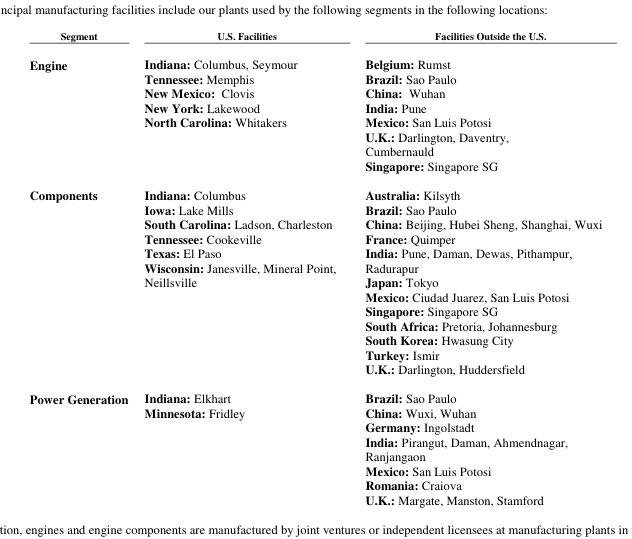table: (28, 28, 601, 508)
table column: (349, 28, 601, 508), (135, 28, 349, 508), (28, 28, 135, 508)
table column header: (28, 28, 601, 49)
table row: (28, 129, 601, 157), (28, 434, 601, 462), (28, 157, 601, 180), (28, 49, 601, 71), (28, 361, 601, 383), (28, 383, 601, 405), (28, 28, 601, 49), (28, 180, 601, 201), (28, 492, 601, 508), (28, 85, 601, 100), (28, 114, 601, 129), (28, 201, 601, 216), (28, 230, 601, 245), (28, 259, 601, 274), (28, 288, 601, 303), (28, 317, 601, 332), (28, 332, 601, 347), (28, 419, 601, 434), (28, 462, 601, 477), (28, 477, 601, 492), (28, 71, 601, 85), (28, 100, 601, 114), (28, 216, 601, 230), (28, 245, 601, 259), (28, 274, 601, 288), (28, 303, 601, 317), (28, 347, 601, 361), (28, 405, 601, 419)
table spanning cell: (28, 180, 135, 383), (28, 49, 135, 180), (28, 383, 135, 508)
